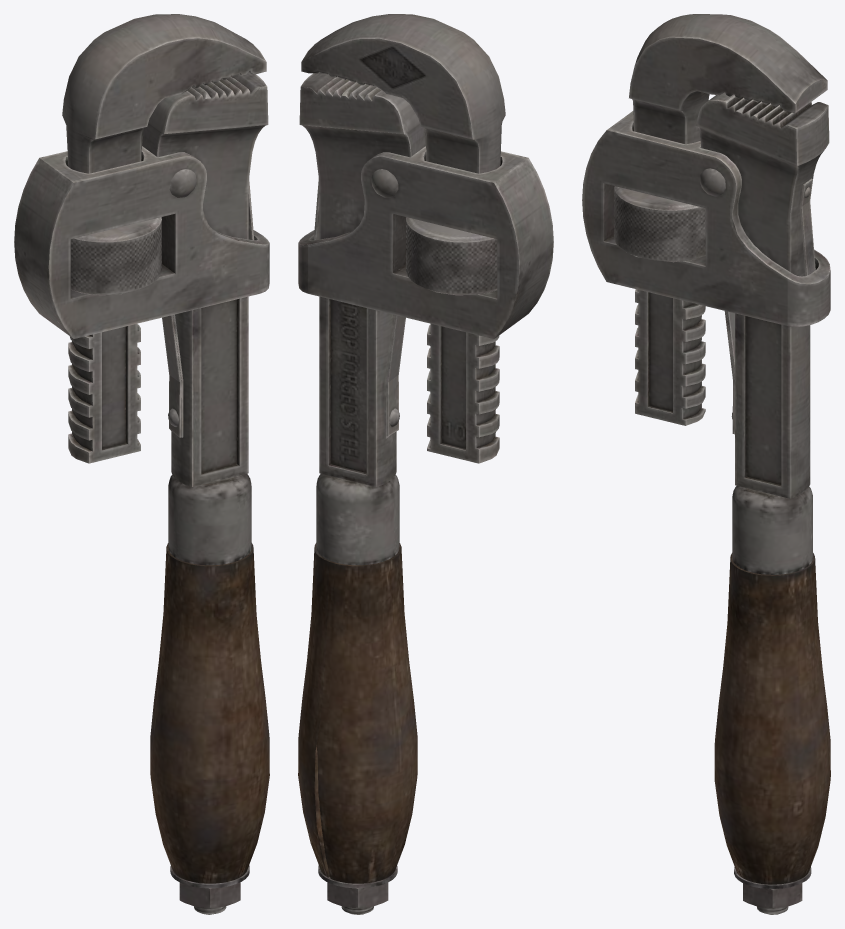
Rendered from adjustable_wrench.glb.
The picture shows the model from 3 angles, left to right: view 1: azimuth 30°, elevation 25°; view 2: azimuth 150°, elevation 25°; view 3: azimuth 330°, elevation 25°; orthographic projection. The views are drawn at different scales.
Parts seen in each view (by area): view 1: adjustable_wrench, adjustable_wrench_jaw, adjustable_wrench_nut; view 2: adjustable_wrench, adjustable_wrench_jaw, adjustable_wrench_nut; view 3: adjustable_wrench, adjustable_wrench_jaw, adjustable_wrench_nut.
Boxes of the visible parts, x1,y1,x2,y2 form: adjustable_wrench: [14, 72, 269, 914]; adjustable_wrench_jaw: [62, 14, 266, 463]; adjustable_wrench_nut: [70, 217, 161, 295]; adjustable_wrench: [298, 72, 553, 914]; adjustable_wrench_jaw: [301, 14, 505, 463]; adjustable_wrench_nut: [406, 217, 497, 295]; adjustable_wrench: [582, 92, 830, 914]; adjustable_wrench_jaw: [629, 14, 827, 425]; adjustable_wrench_nut: [614, 186, 705, 262].
Size of the model in its own units: 0.0683 by 0.2541 by 0.0306.
1 material, 1 textured.
